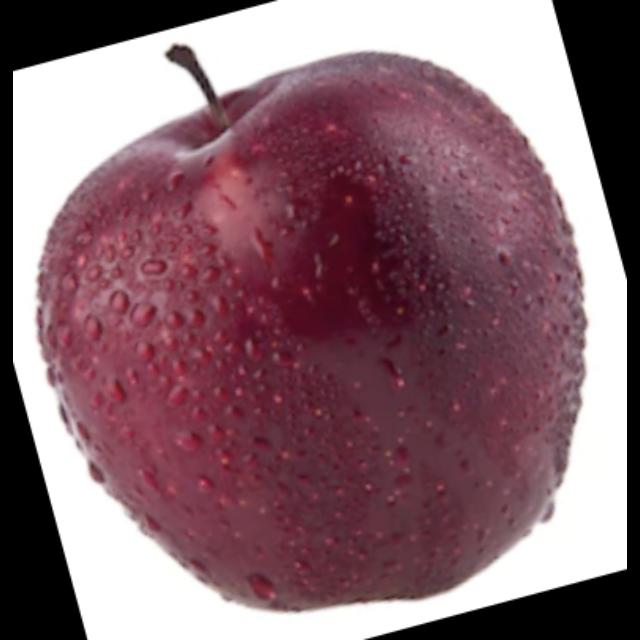Apel Segar: (33, 50, 590, 618)
